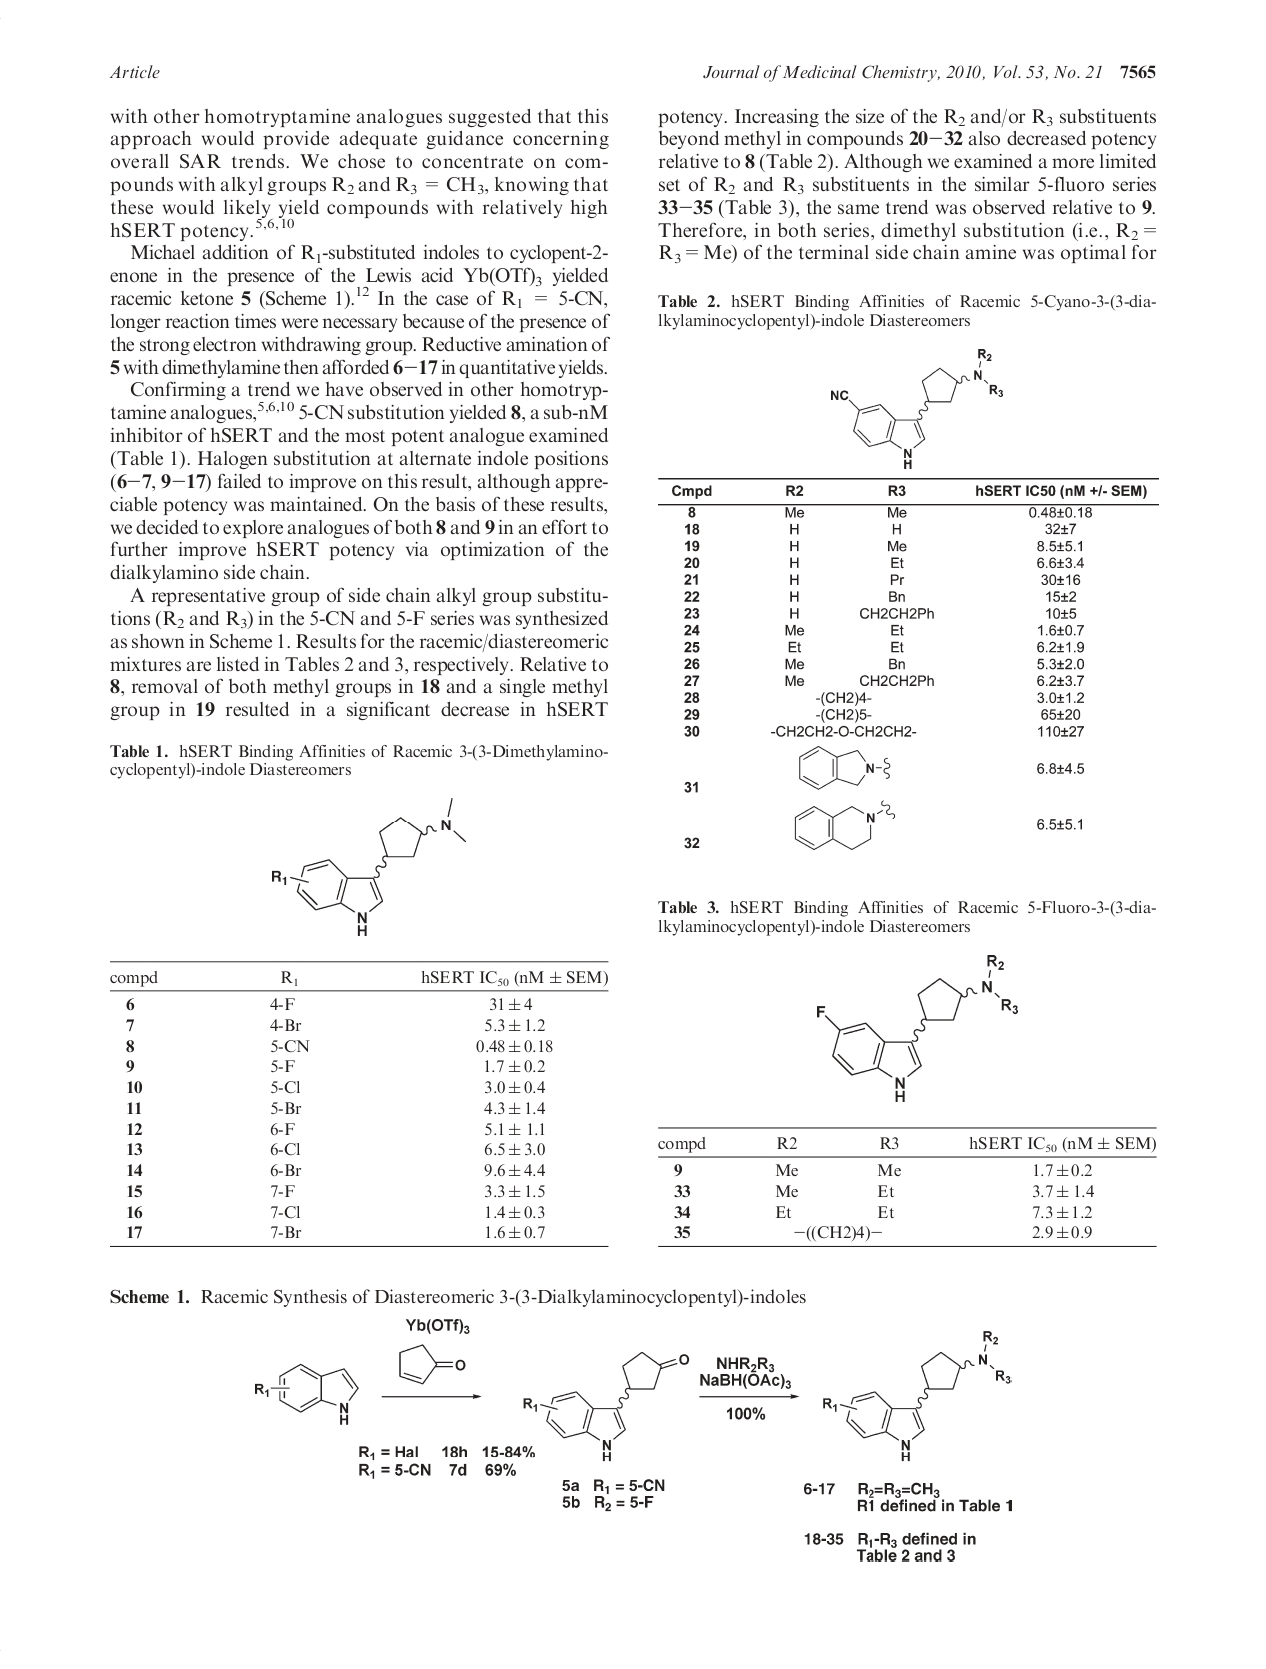exist_molecular: (815, 951, 1020, 1104), (269, 795, 468, 938), (822, 1327, 1015, 1464), (828, 347, 1005, 471), (521, 1350, 692, 1463), (253, 1360, 359, 1426), (794, 798, 898, 852), (798, 743, 894, 791), (398, 1343, 467, 1386)
